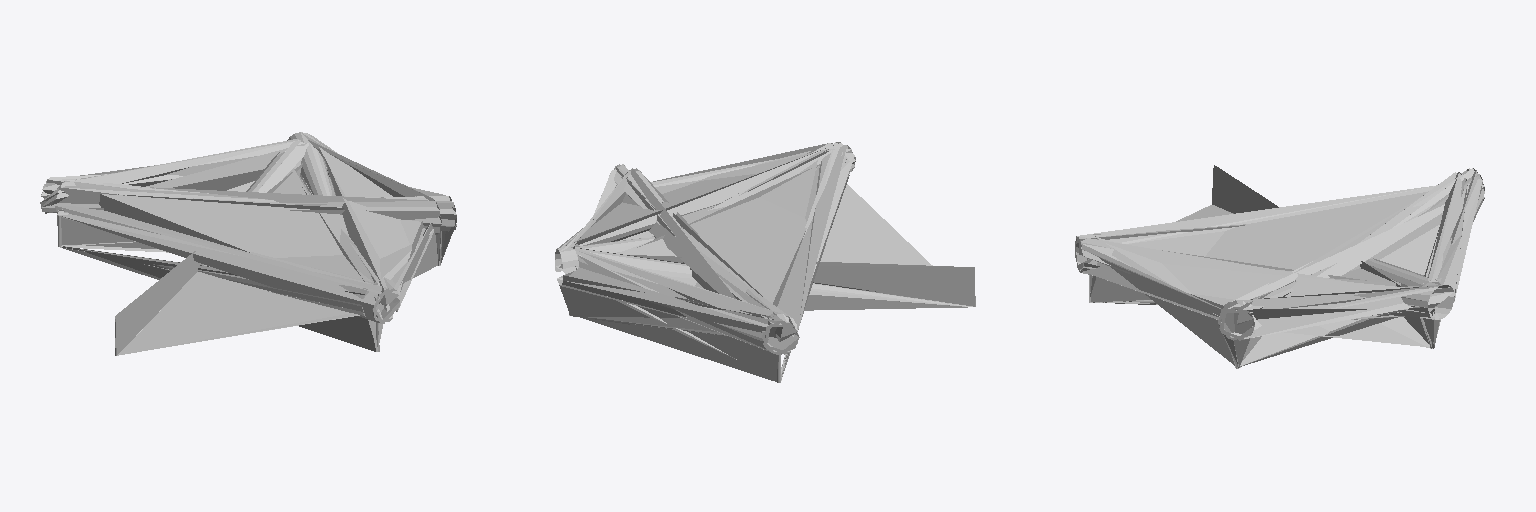
Rendered from drum2.obj.
3 views of the same model, side by side, from view 1: azimuth 30°, elevation 25°; view 2: azimuth 150°, elevation 25°; view 3: azimuth 270°, elevation 25° (orthographic).
Parts seen in each view (by area): view 1: Cylinder001; view 2: Cylinder001; view 3: Cylinder001.
Part boxes in pixels (x1,y1,x2,y2): Cylinder001: (40, 132, 456, 355); Cylinder001: (555, 142, 975, 381); Cylinder001: (1075, 165, 1484, 368).
Bounding box in the file's own units: 649021 × 117559 × 662766.